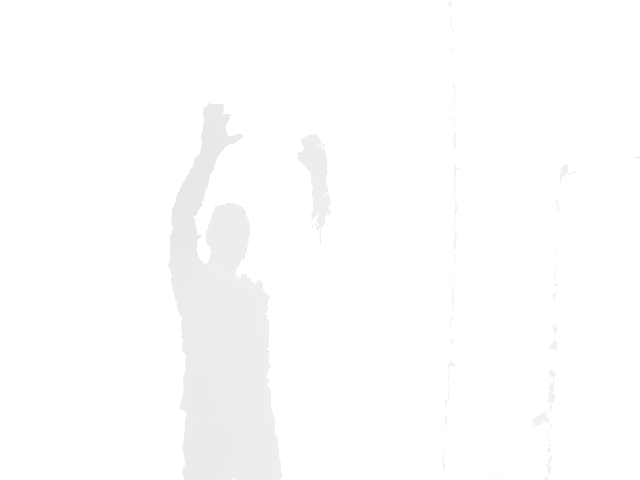hand: (198, 102, 244, 151), (296, 133, 329, 178)
head: (206, 202, 252, 271)
person: (166, 100, 332, 479)
